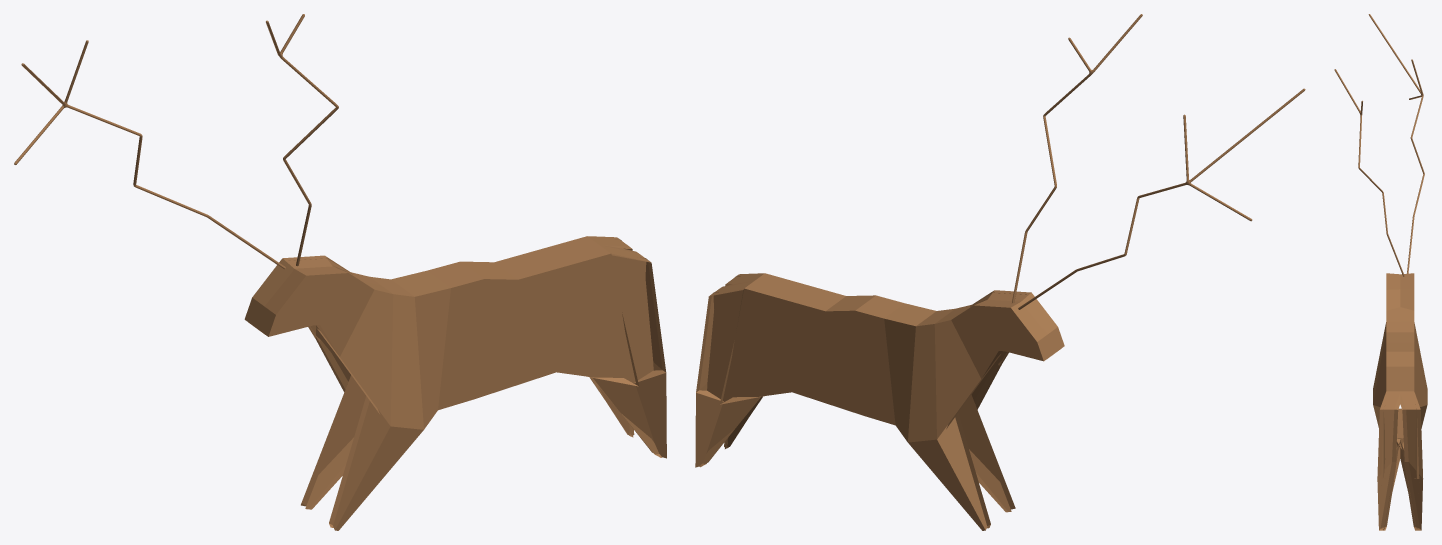
The model's file is deer.gltf.
3 renders of one model, left to right at view 1: azimuth 30°, elevation 25°; view 2: azimuth 150°, elevation 25°; view 3: azimuth 270°, elevation 25°, orthographic. The views are drawn at different scales.
Visible parts, largest first — view 1: Plane.001, Cube; view 2: Plane.001, Cube; view 3: Plane.001, Cube.
Boxes of the visible parts, x1=… form: Plane.001: x1=244, y1=236, x2=666, y2=530; Cube: x1=14, y1=14, x2=338, y2=269; Plane.001: x1=695, y1=273, x2=1064, y2=530; Cube: x1=1012, y1=14, x2=1305, y2=309; Plane.001: x1=1373, y1=273, x2=1427, y2=530; Cube: x1=1334, y1=14, x2=1424, y2=276.
Size of the model in its own units: 10.25 by 8.6 by 2.15.
